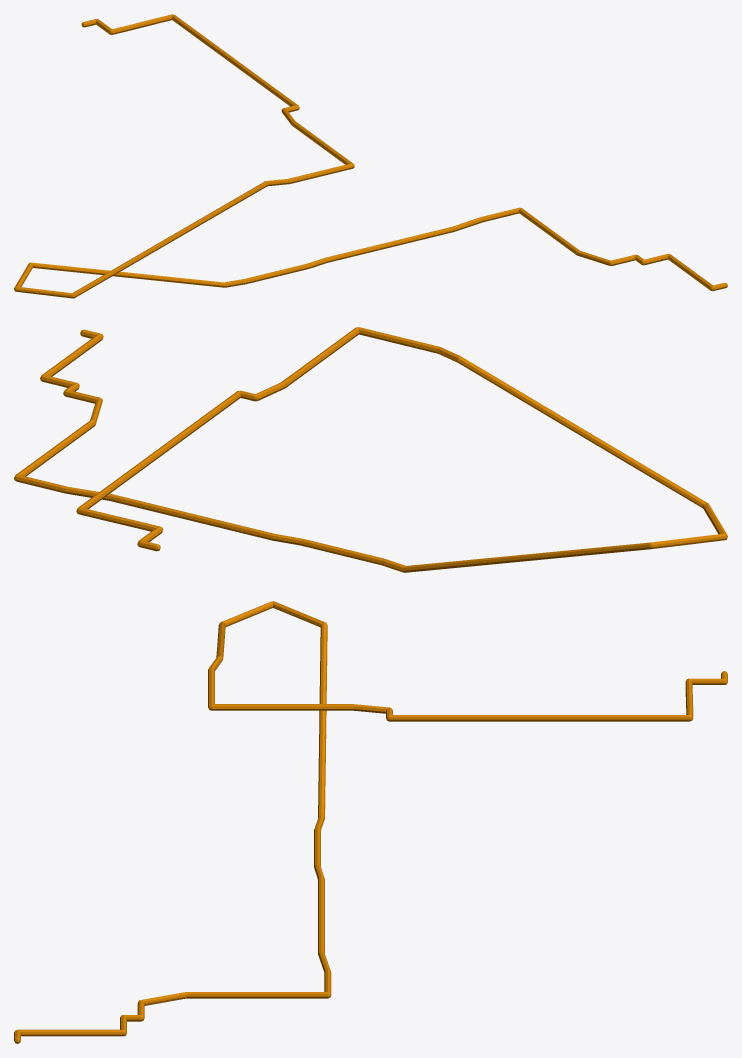
3 views of the same model, one above another, from view 1: azimuth 30°, elevation 25°; view 2: azimuth 150°, elevation 25°; view 3: azimuth 270°, elevation 25° (orthographic). The views are drawn at different scales.
Size of the model in its own units: 2406 by 520 by 2021.
